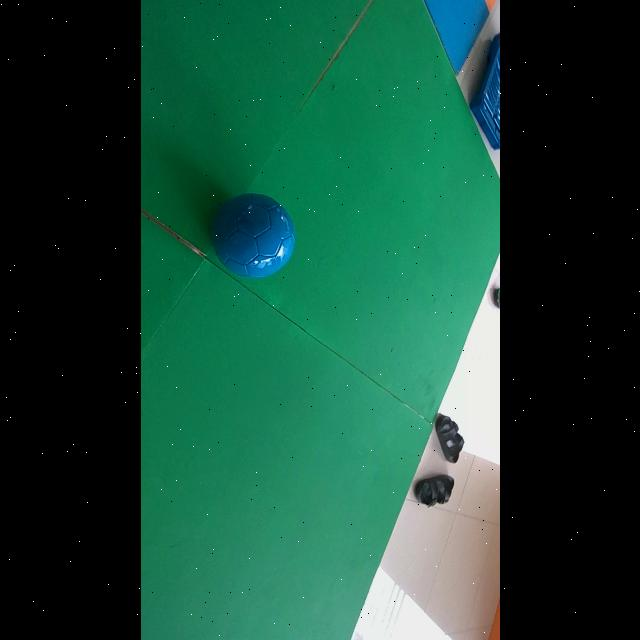B: (211, 193, 295, 278)
